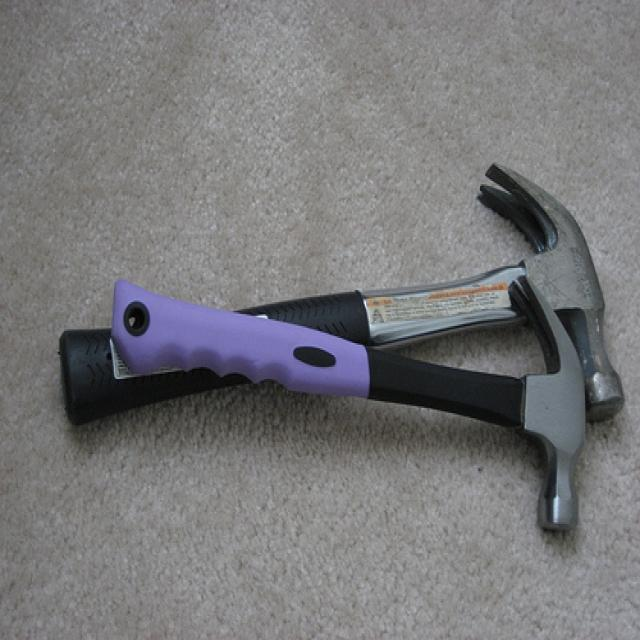hammer: (54, 136, 625, 406), (84, 272, 600, 552)
